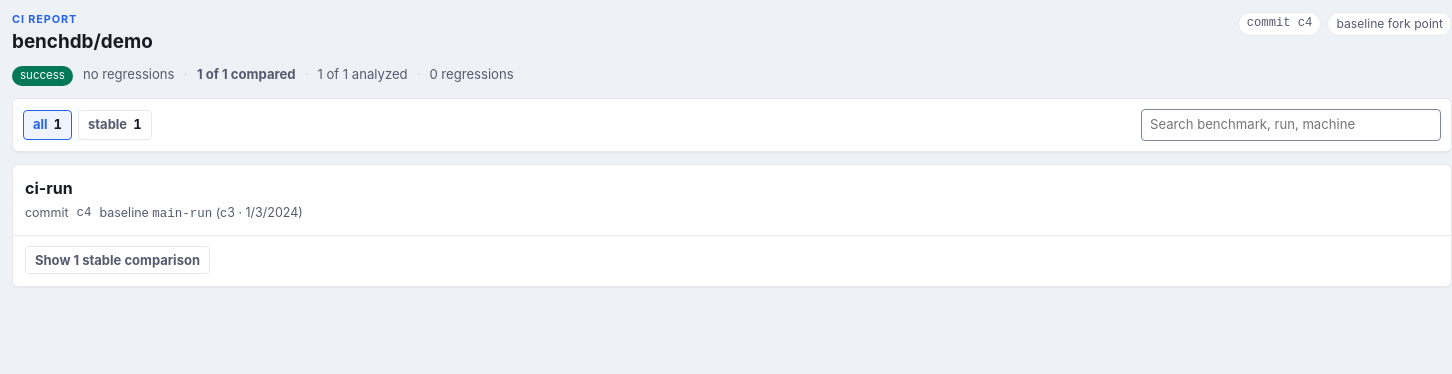
keeps a suppressed change visible with its tolerance explanation
Click the button "Show 1 stable comparison" at (118, 260), box x1=25 y1=246 x2=210 y2=274
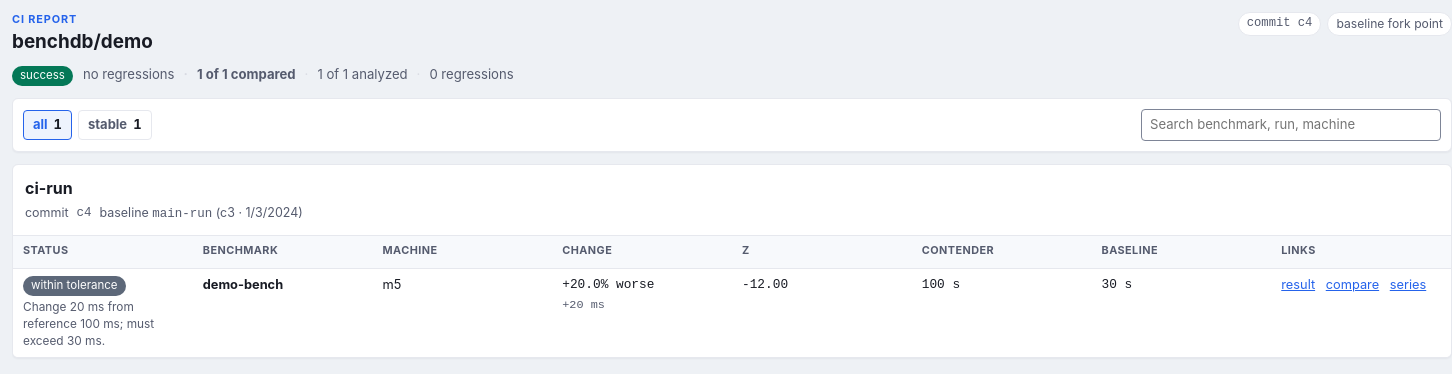
Expected: the text "within tolerance" is shown, x1=23 y1=276 x2=126 y2=296
Expected: the text "+20 ms" is shown, x1=562 y1=298 x2=605 y2=312
Expected: the text "Change 20 ms from reference 100 ms; must exceed 30 ms." is shown, x1=23 y1=300 x2=154 y2=348
